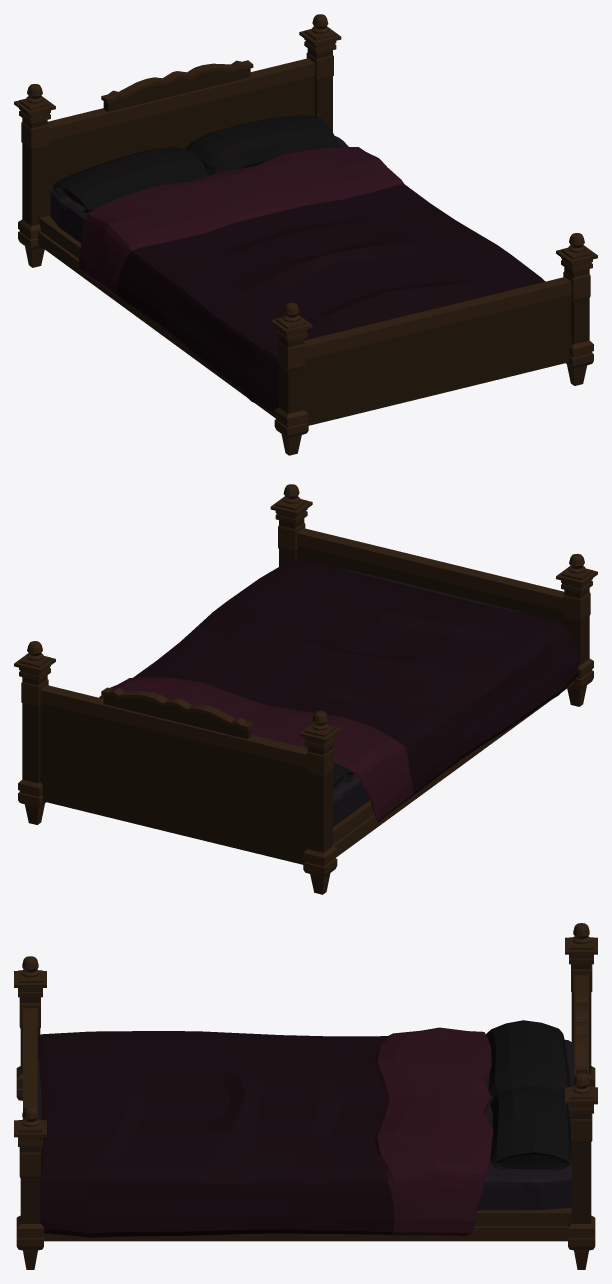
Rendered from q-BedDouble.glb.
3 views of the same model, one above another, from view 1: azimuth 30°, elevation 25°; view 2: azimuth 150°, elevation 25°; view 3: azimuth 270°, elevation 25° (orthographic). The views are drawn at different scales.
Size of the model in its own units: 283 by 156 by 426.
